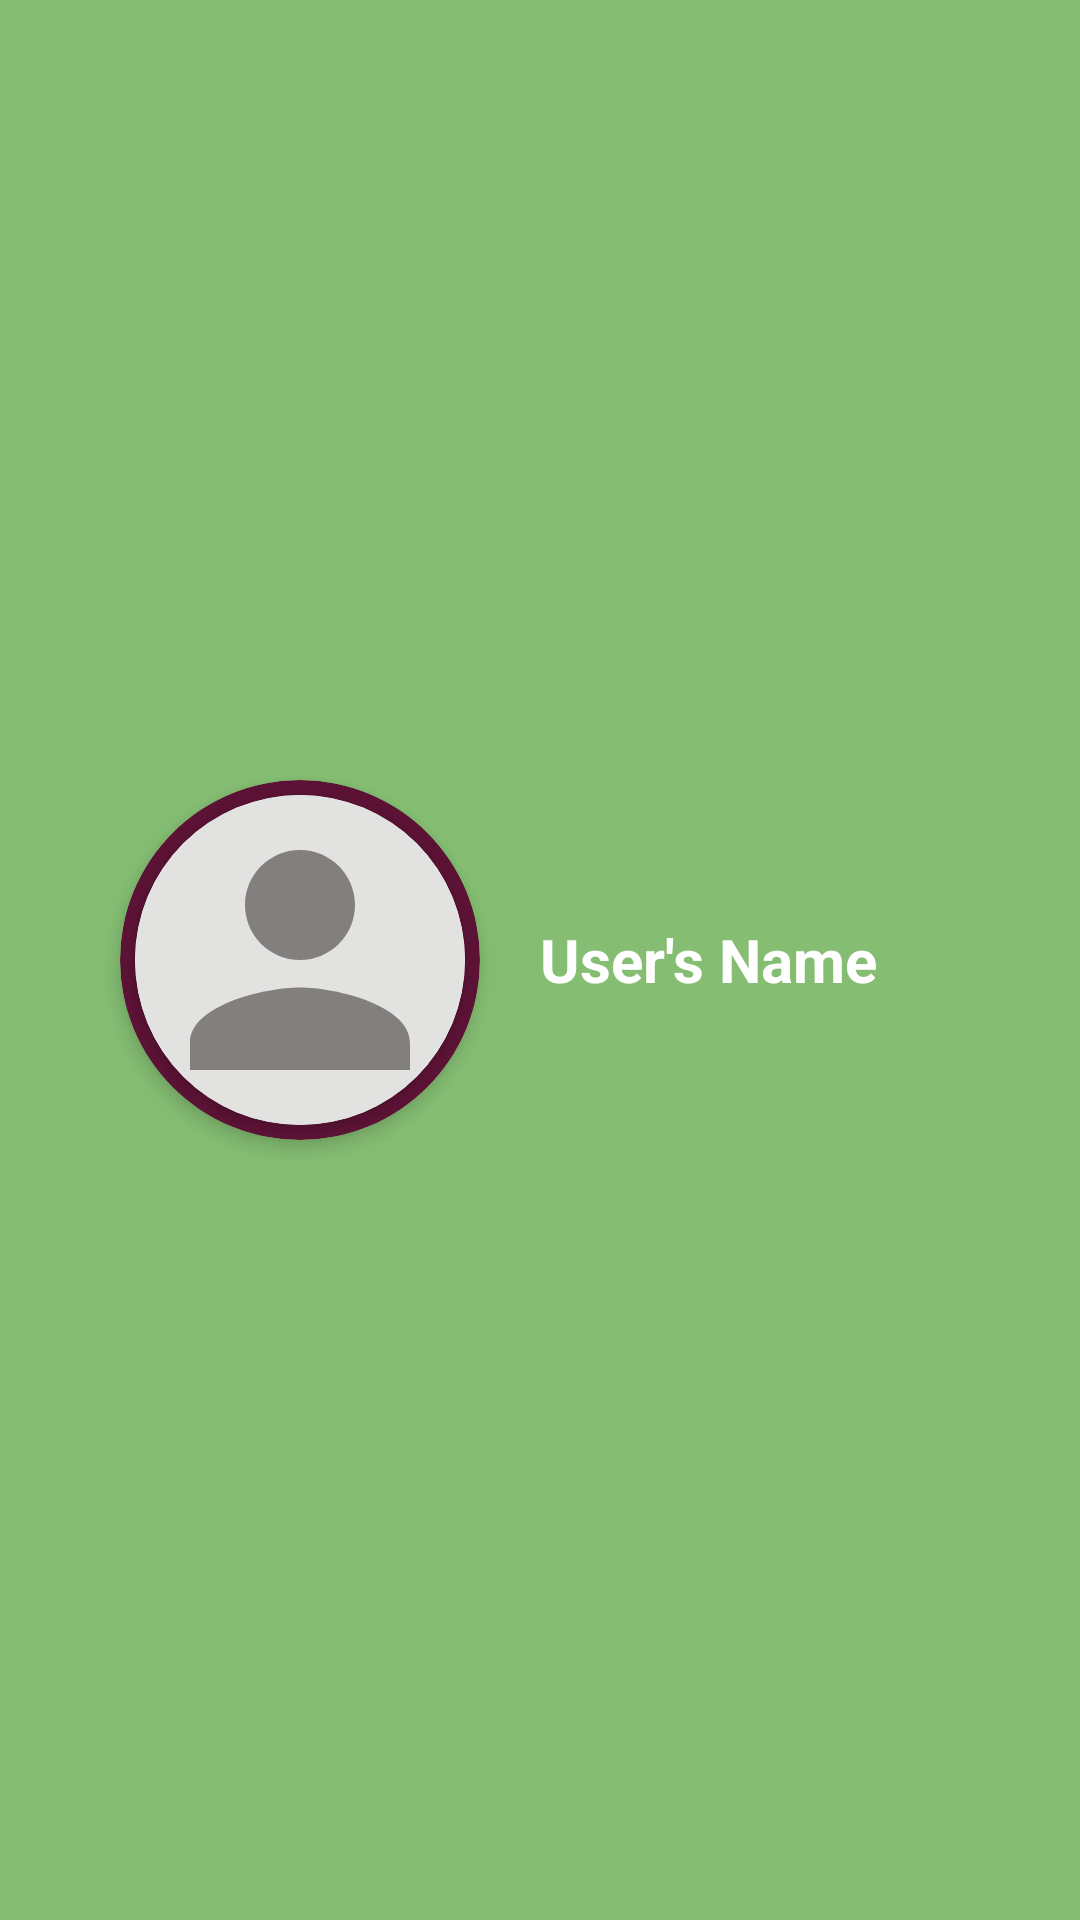

Icons on this 1080x1920 Android screen, each with the point to tap as [x,y]:
person: [300,960]
